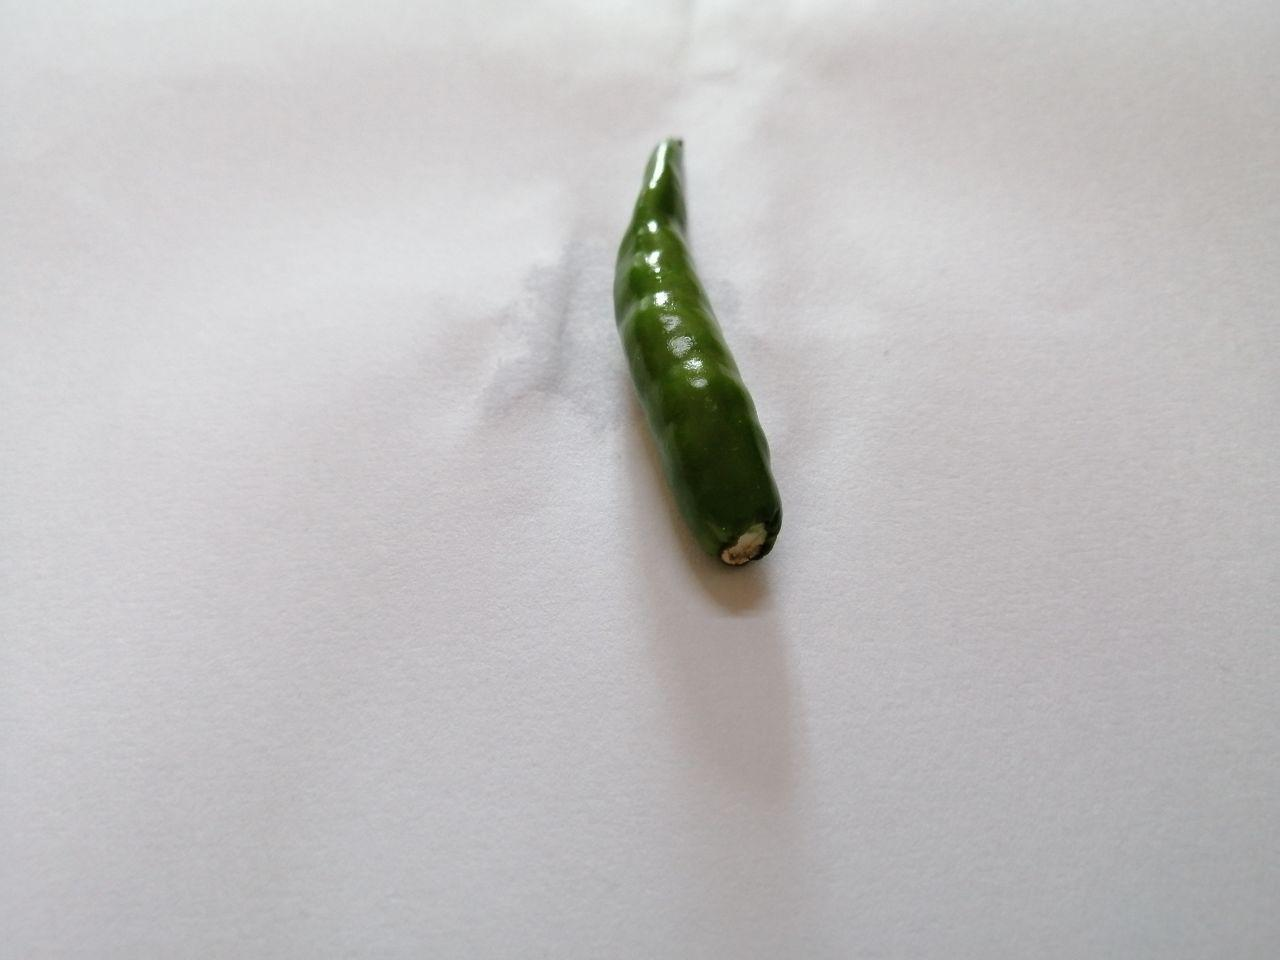lada hijau: (600, 115, 821, 608)
